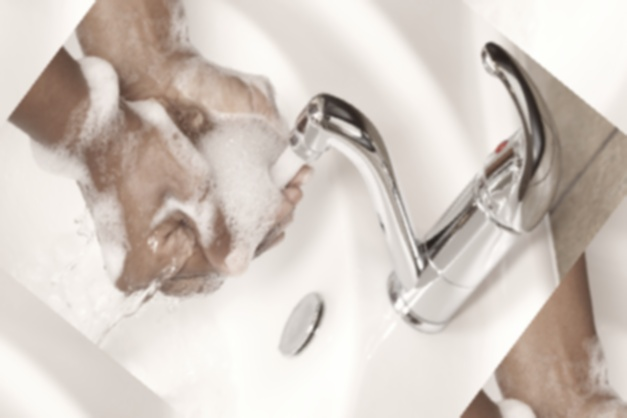washing hand: (0, 0, 565, 417)
